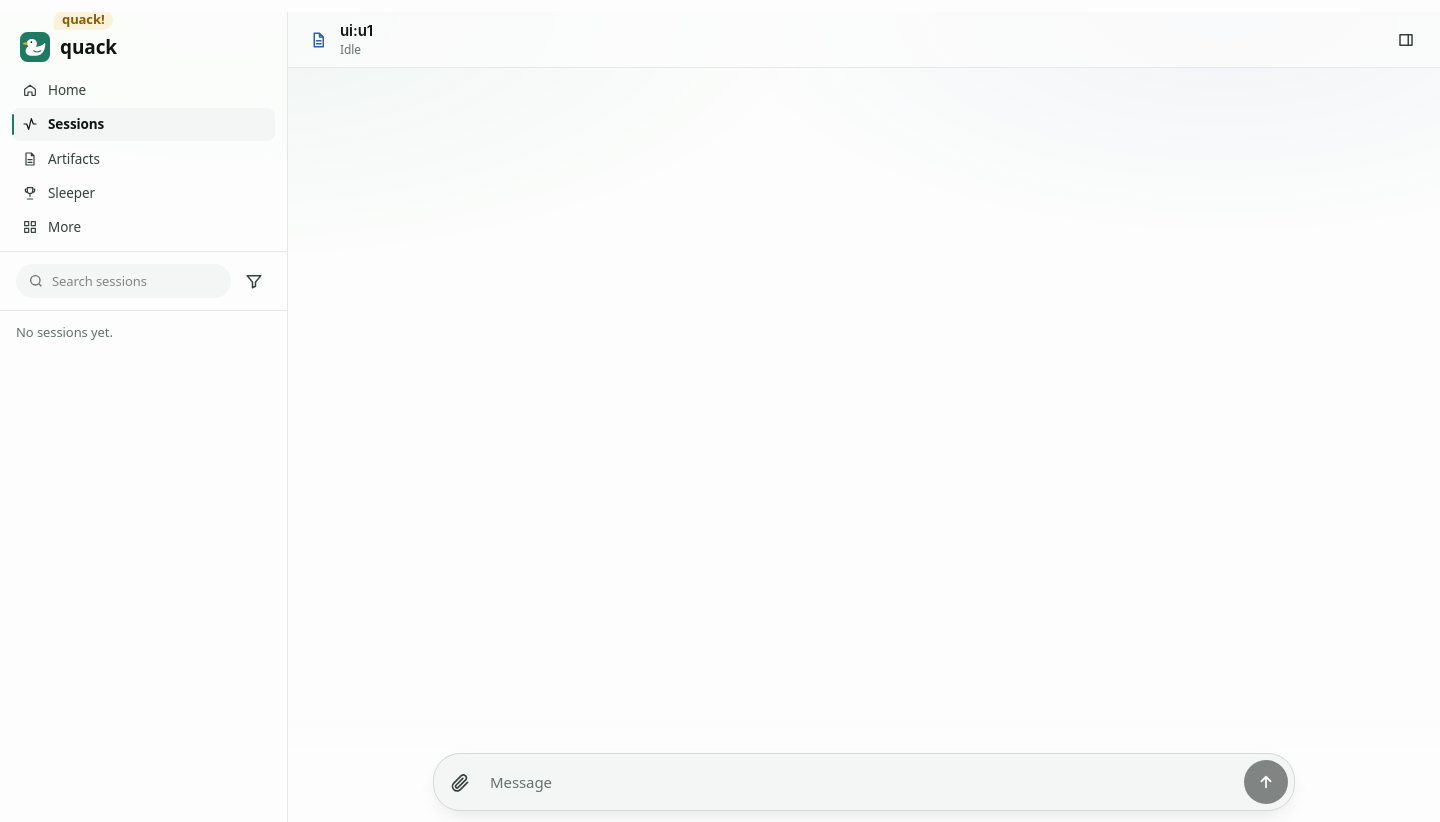
a send on a closed socket keeps the input and says so
Type "lost?" into the text box labelled "Message". click: (863, 782)
box: [486, 762, 1240, 802]
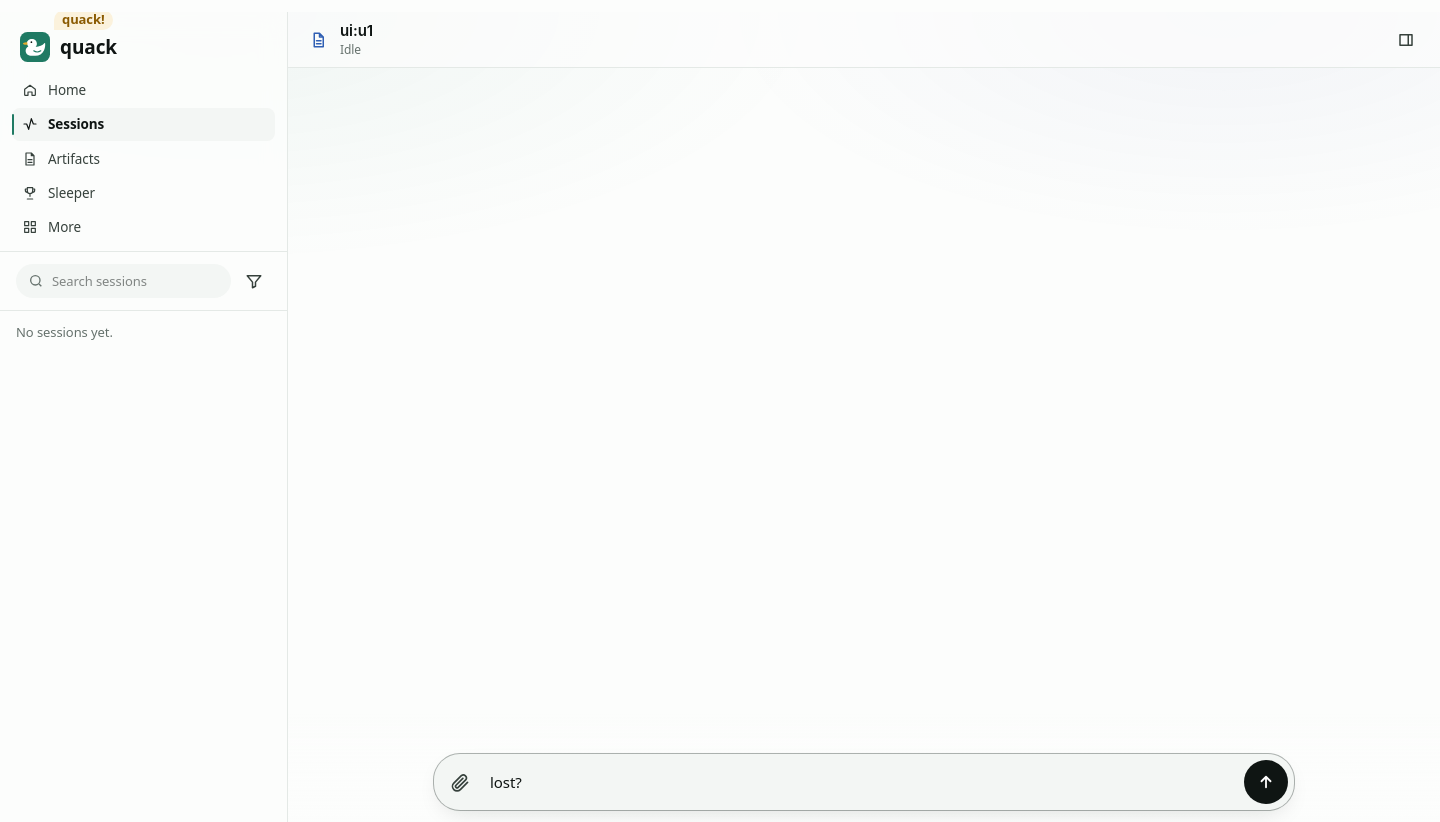
Click the button named "Send". click: (1266, 782)
box: [1244, 760, 1288, 804]
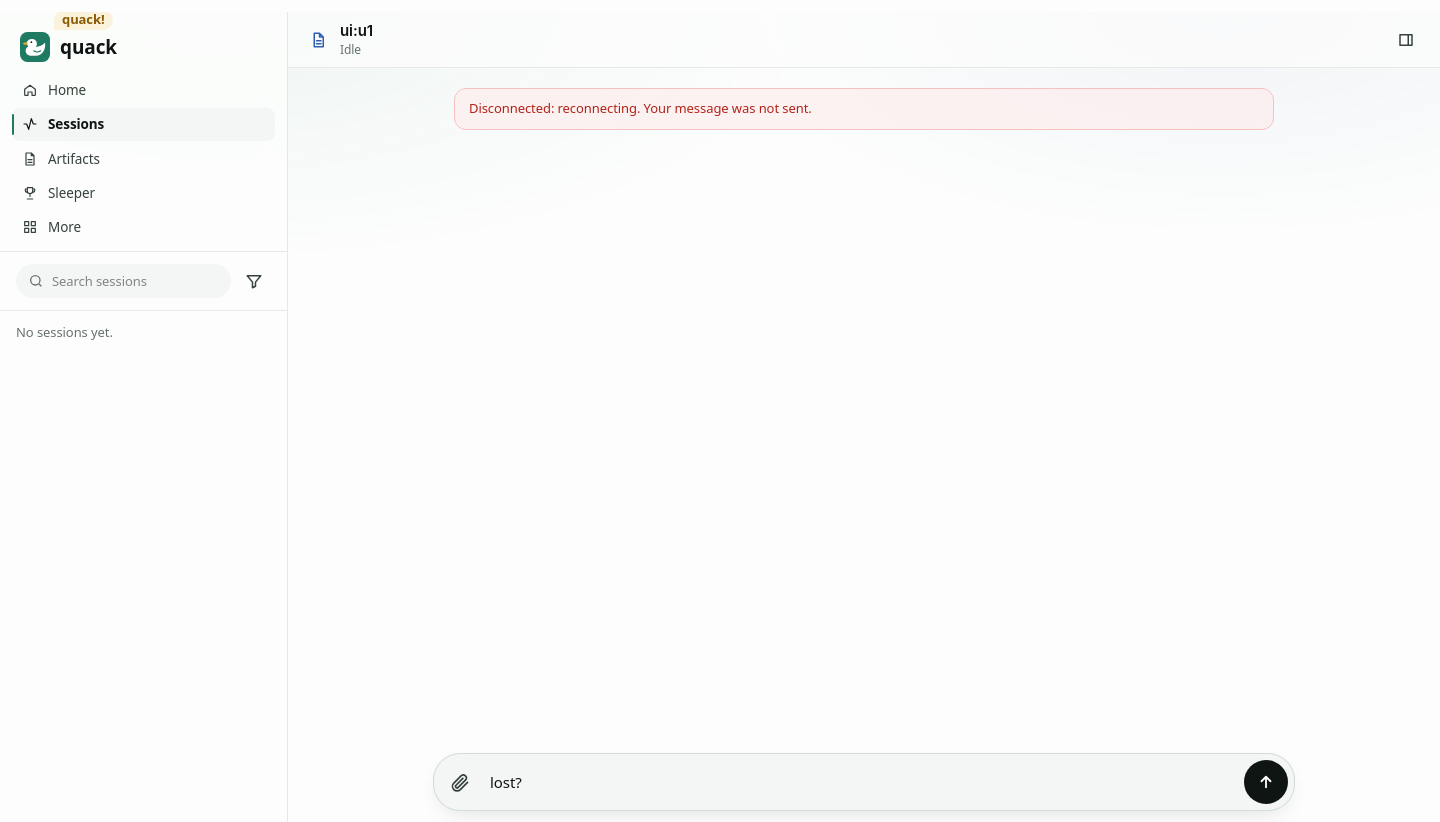
Now the message "Disconnected: reconnecting. Your message was not sent." is shown, box [454, 88, 1274, 130]
